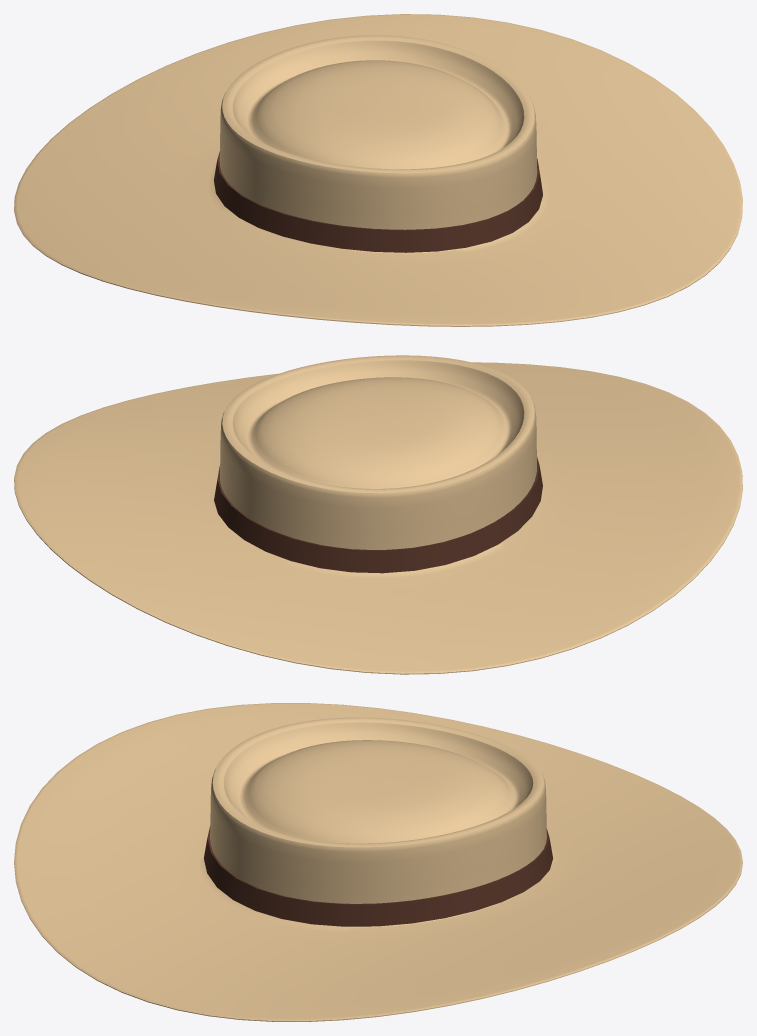
Rendered from Chapéu 2.fbx.
The picture shows the model from 3 angles, top to bottom: view 1: azimuth 30°, elevation 25°; view 2: azimuth 150°, elevation 25°; view 3: azimuth 270°, elevation 25°; orthographic projection.
Visible parts, largest first — view 1: Circle; view 2: Circle; view 3: Circle.
Part boxes in pixels (left/top/right/bottom): Circle: left=14, top=14, right=742, bottom=326; Circle: left=14, top=355, right=742, bottom=674; Circle: left=14, top=703, right=742, bottom=1021.
Size of the model in its own units: 215 by 35.12 by 215.
